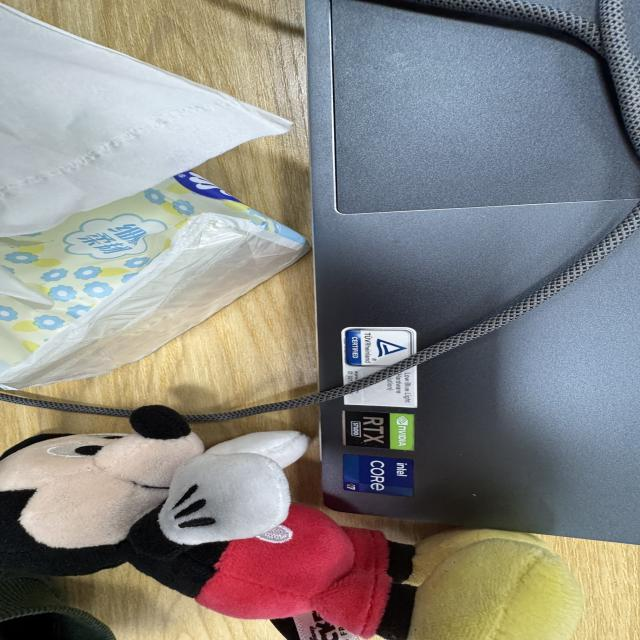mickey: (0, 406, 581, 639)
tissue: (0, 5, 290, 236), (0, 172, 308, 388)
